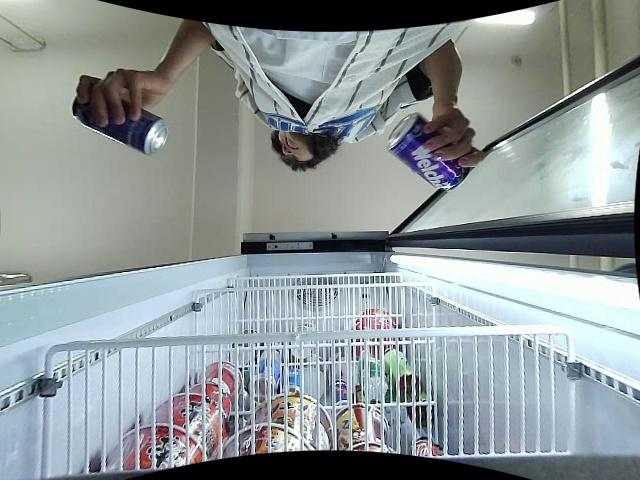00_hand: (75, 68, 170, 127), (421, 105, 485, 170)
14_welchsGrape: (387, 112, 467, 190), (71, 93, 167, 155)
